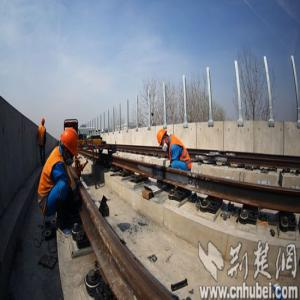yellow: (61, 126, 81, 164), (157, 128, 169, 154), (41, 117, 46, 128)
